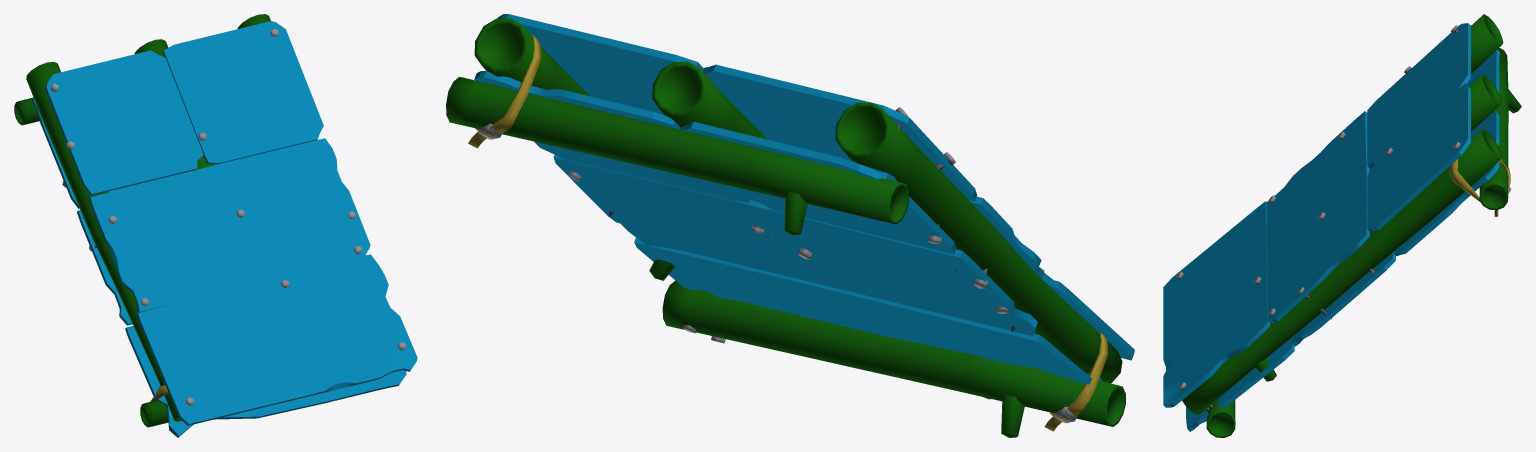
File: RaftFloorUpwardsWedgeSteep.fbx
3 renders of one model, left to right at view 1: azimuth 30°, elevation 25°; view 2: azimuth 150°, elevation 25°; view 3: azimuth 270°, elevation 25°, orthographic. The views are drawn at different scales.
Visible parts, largest first — view 1: Cube.003; view 2: Cube.003; view 3: Cube.003.
Boxes of the visible parts, x1=… form: Cube.003: x1=14, y1=14, x2=417, y2=437; Cube.003: x1=446, y1=14, x2=1134, y2=437; Cube.003: x1=1163, y1=14, x2=1521, y2=437.
Size of the model in its own units: 6.43 by 6.79 by 7.17.
